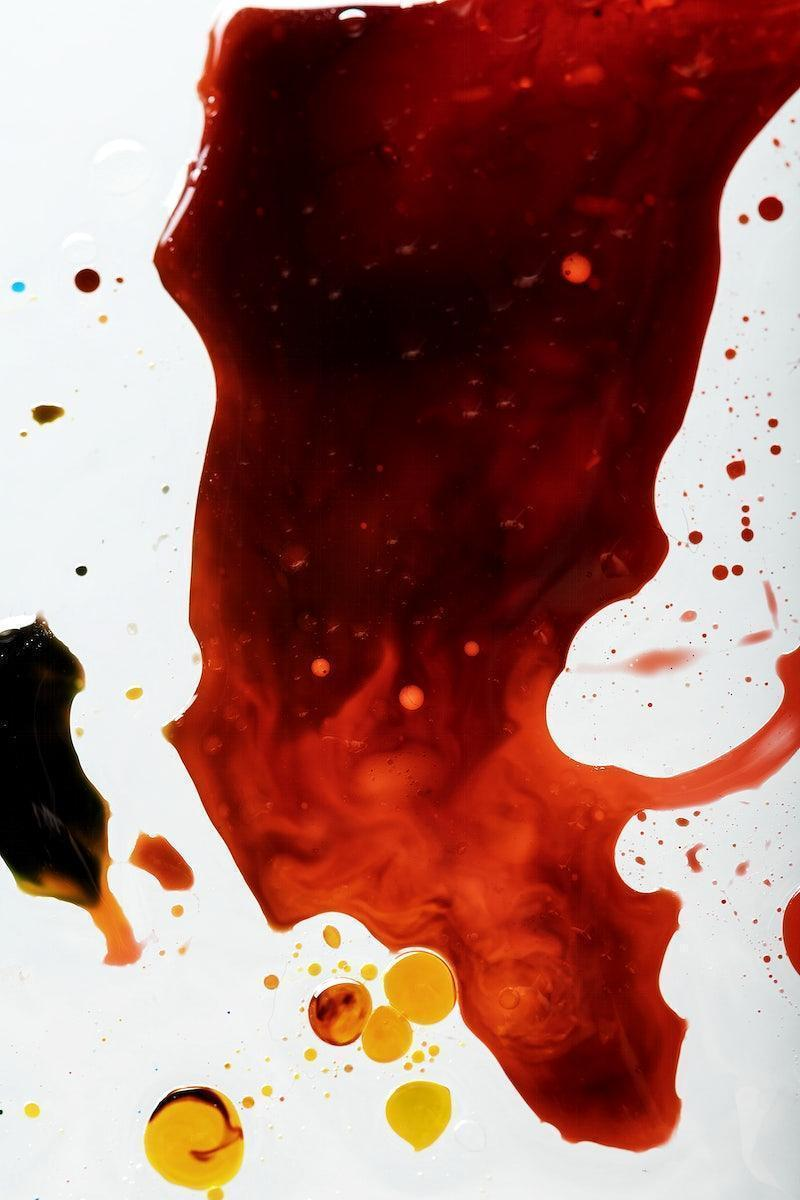Fire: (154, 0, 800, 1152), (682, 459, 771, 580), (784, 893, 800, 976), (759, 195, 786, 220), (73, 267, 99, 292), (740, 213, 752, 224)
